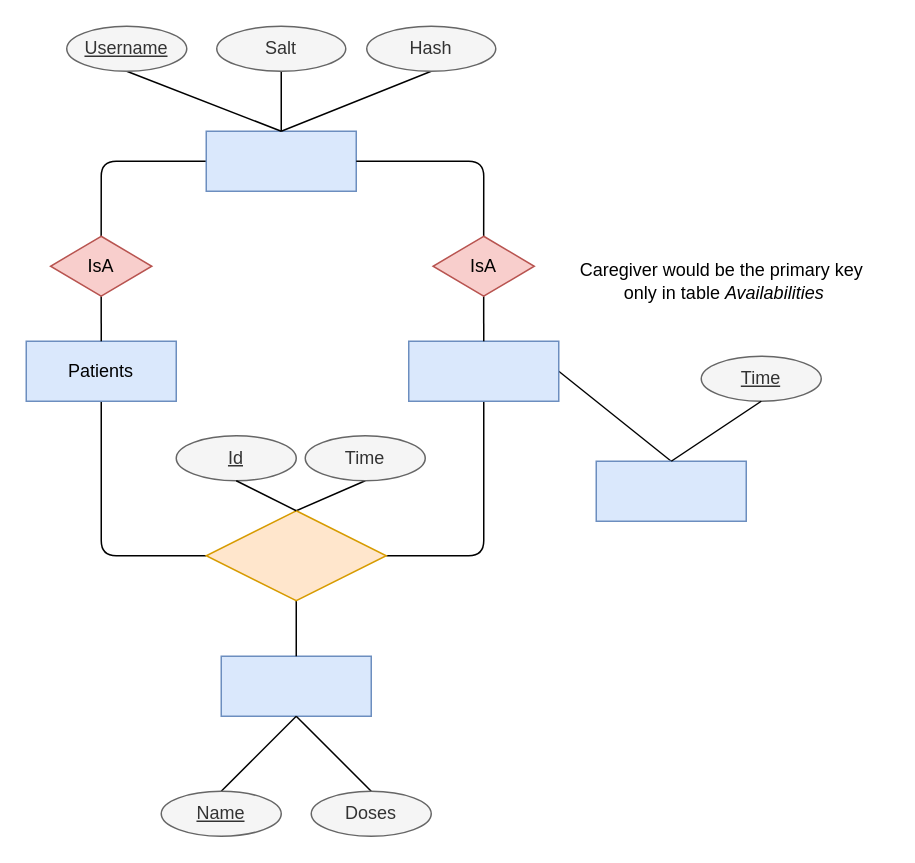
The diagram is 915 pixels wide and 863 high, and some of its shapes have lost their labels. The centre of each missing label's shape, as x and y in pixels:
"Availabilities" goes at (x=670, y=490).
"Caregivers" goes at (x=483, y=370).
"Reservations" goes at (x=295, y=555).
"Users" goes at (x=280, y=160).
"Vaccines" goes at (x=295, y=685).
